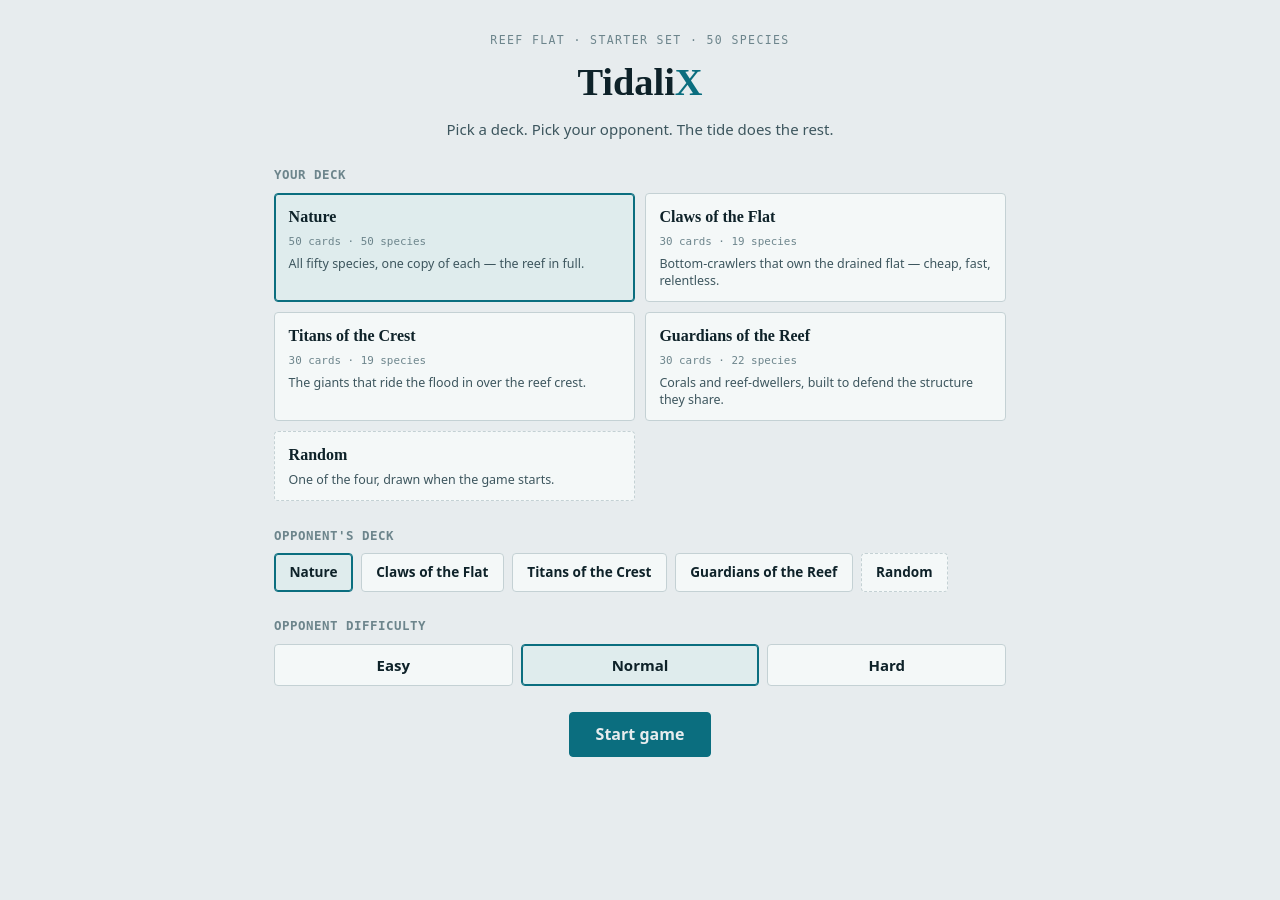
Scenario: client › mounts and draws the tide track
This screenshot has width=1280, height=900.
Click the button with class "setup__start" at (640, 734), box x1=569 y1=712 x2=711 y2=757
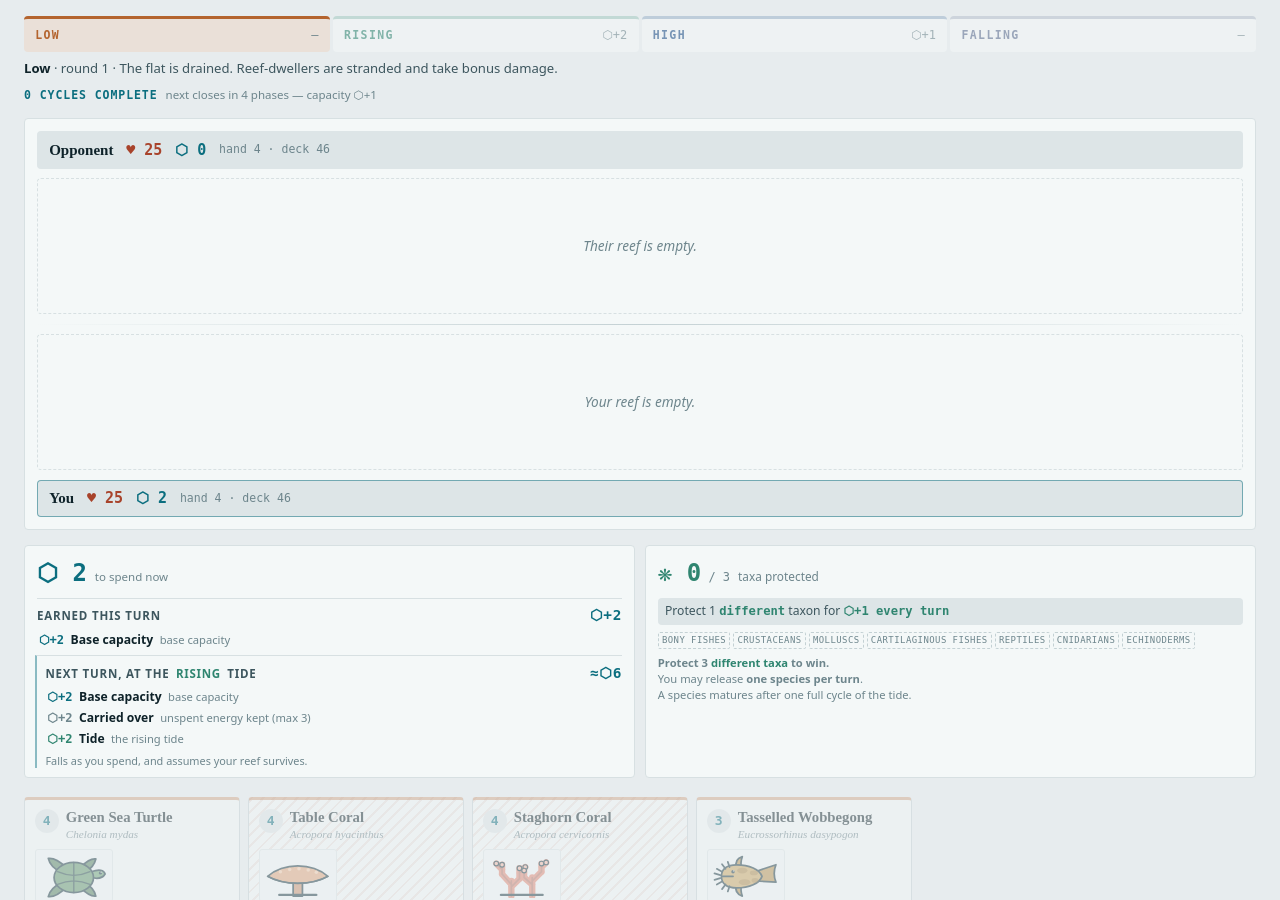
Expected: the text "low" is shown, x1=35 y1=27 x2=60 y2=44
Expected: the text "rising" is shown, x1=344 y1=27 x2=394 y2=44
Expected: the text "high" is shown, x1=653 y1=27 x2=686 y2=44
